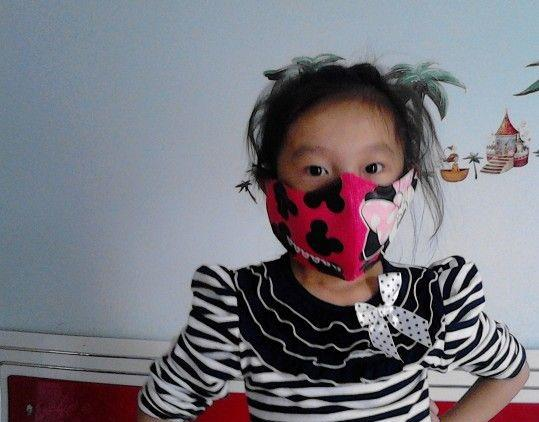OK: (275, 140, 410, 275)
